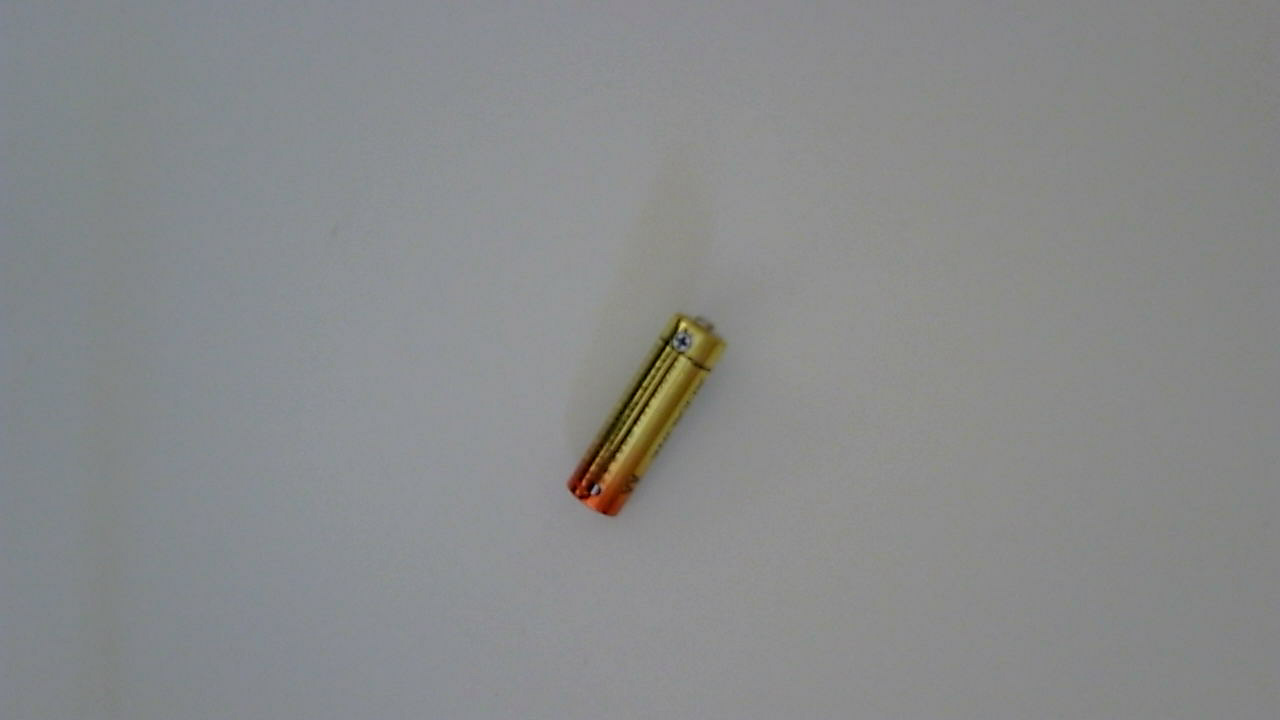Battery: (562, 306, 739, 532)
